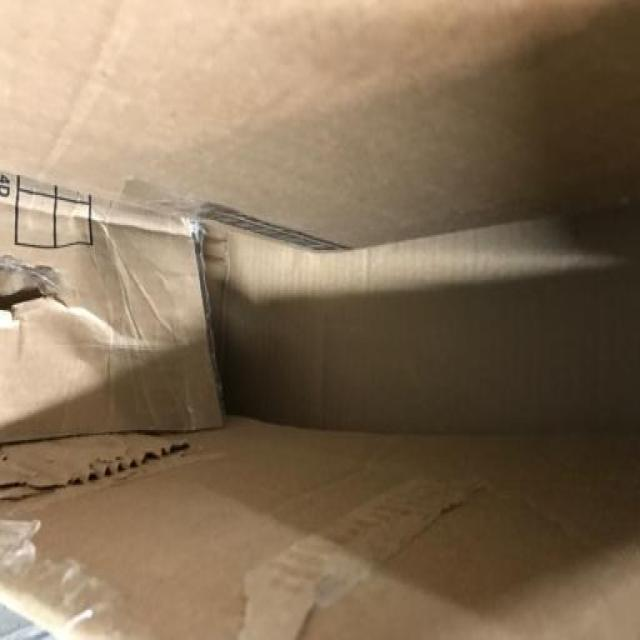Cardboard: (0, 0, 637, 640)
